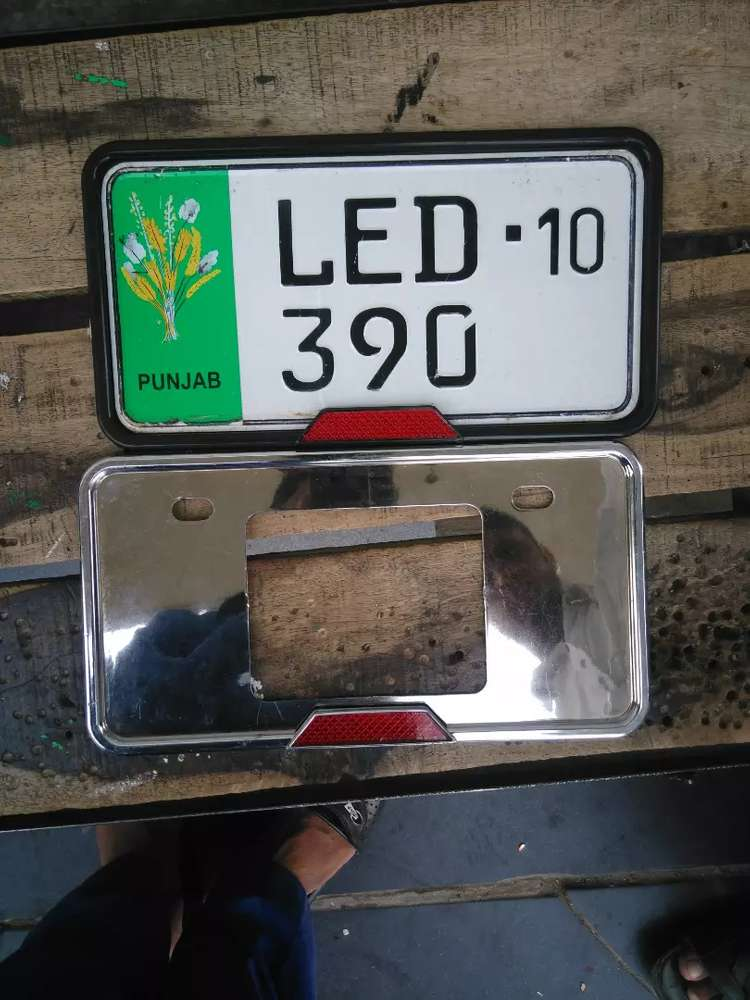plate: (75, 119, 669, 446)
